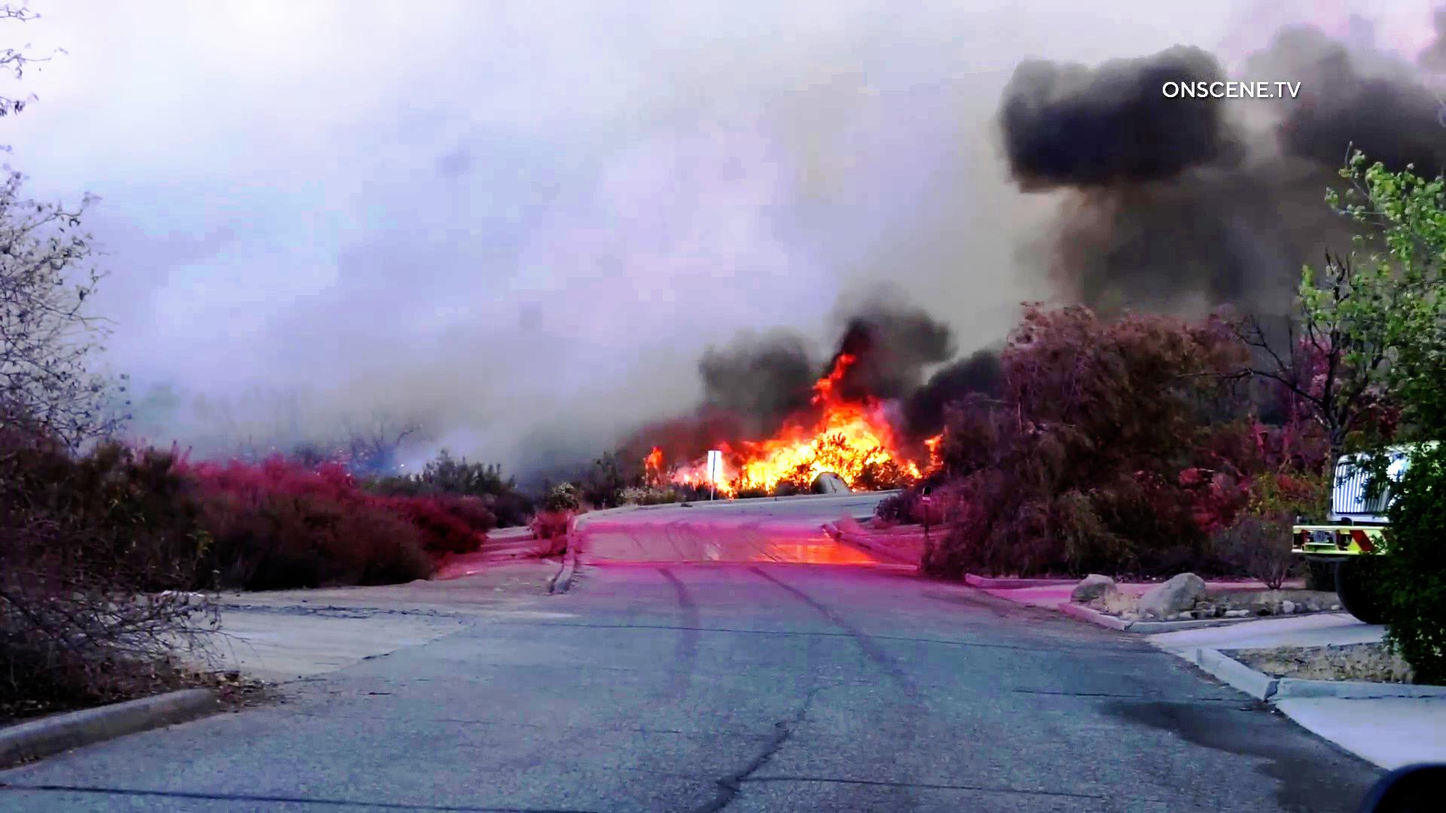fire: (667, 354, 898, 493)
smoke: (1038, 177, 1290, 297)
